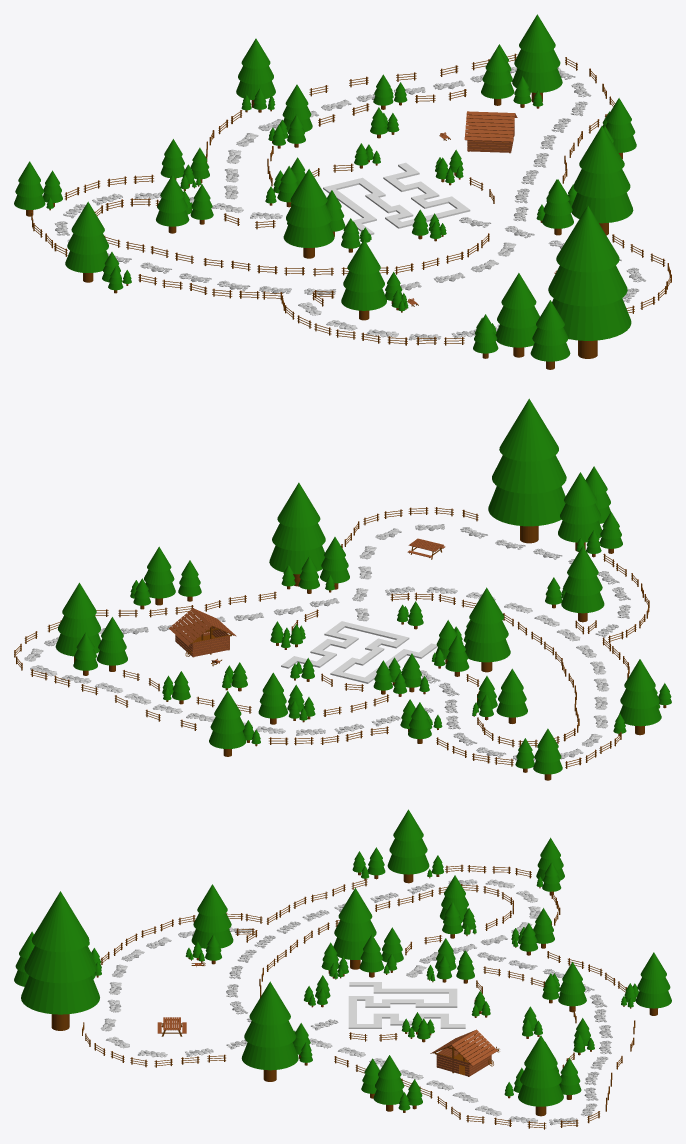
Rendered from map (1).fbx.
The picture shows the model from 3 angles, top to bottom: view 1: azimuth 30°, elevation 25°; view 2: azimuth 150°, elevation 25°; view 3: azimuth 270°, elevation 25°; orthographic projection. The views are drawn at different scales.
Parts seen in each view (by area): view 1: tree.073, tree.078, Path, tree.039, tree.083, tree.072, tree.066, tree.060, House, tree.074, tree.052, tree.036 (+8 smaller); view 2: tree.073, tree.078, Path, tree.039, tree.072, House, tree.066, tree.083, tree.060, tree.052, tree.091, tree.036 (+10 smaller); view 3: tree.073, tree.078, Path, tree.083, tree.039, House, tree.060, tree.066, tree.052, tree.091, tree.044, tree.036 (+7 smaller).
Boxes of the visible parts, x1,y1,x2,y2 form: tree.073: (548,205,631,358); tree.078: (571,126,633,235); Path: (323,162,470,234); tree.039: (283,169,334,258); tree.083: (512,14,562,102); tree.072: (495,273,539,357); tree.066: (341,239,386,320); tree.060: (65,201,108,282); House: (464,111,517,153); tree.074: (530,300,570,369); tree.052: (236,38,275,107); tree.036: (156,174,189,233); tree.073: (488,398,566,543); tree.078: (269,482,325,586); Path: (281,621,437,683); tree.039: (464,587,510,672); tree.072: (558,472,602,551); House: (168,608,236,657); tree.066: (561,546,604,622); tree.083: (55,582,100,662); tree.060: (619,659,661,735); tree.052: (209,691,246,756); tree.091: (144,546,175,605); tree.036: (496,668,527,723); tree.073: (21,891,99,1030); tree.078: (241,981,298,1081); Path: (348,982,465,1028); tree.083: (518,1035,563,1116); tree.039: (333,888,376,969); House: (430,1029,497,1076); tree.060: (387,809,429,883); tree.066: (191,884,233,948); tree.052: (635,952,671,1015); tree.091: (373,1055,404,1111); tree.044: (558,962,586,1012); tree.036: (440,875,468,921).
Size of what is drawn, in the model's own units: 7499 by 1796 by 7861.
